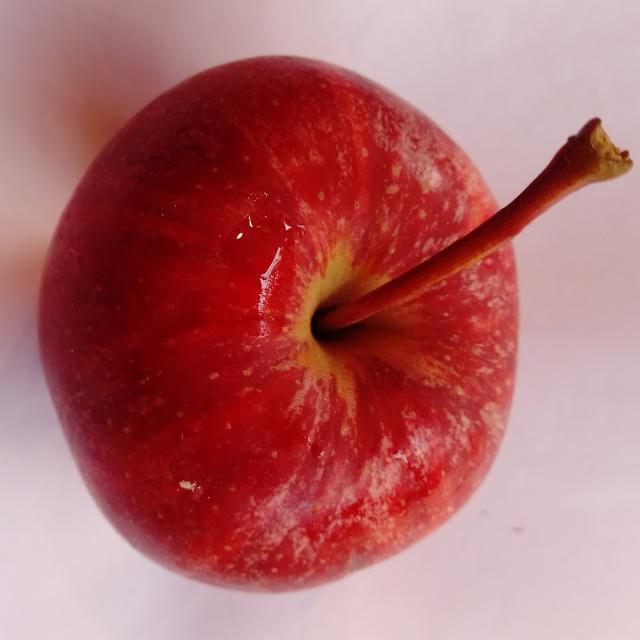Fresh Apple: (32, 55, 525, 595)
